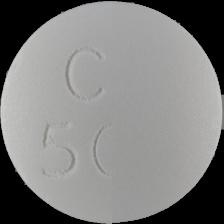64980-178: (0, 0, 224, 224)
